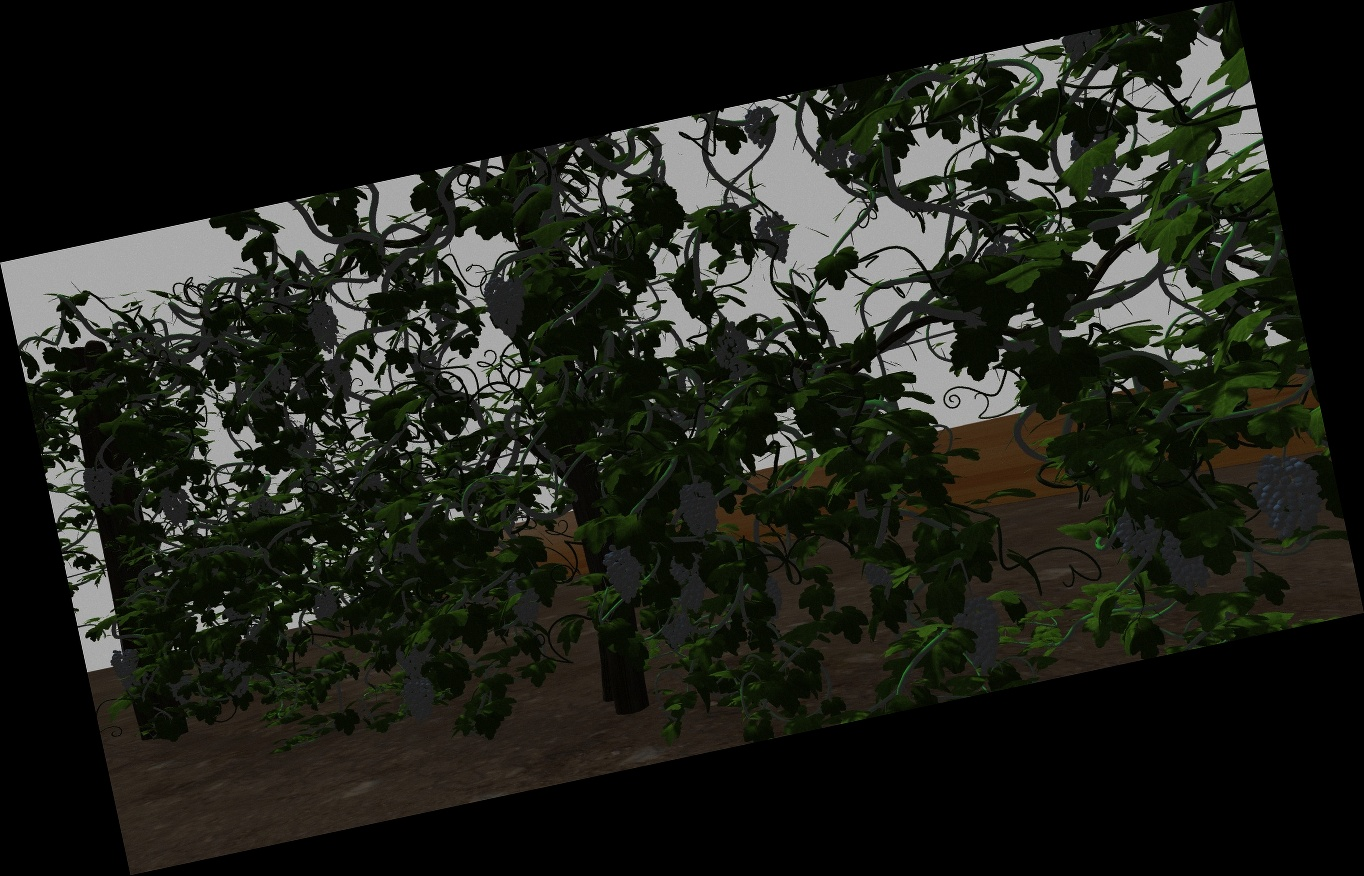grape: (1259, 454, 1325, 538), (958, 595, 1004, 675), (1165, 528, 1209, 596), (678, 477, 721, 542), (604, 543, 646, 606), (486, 276, 528, 337), (1116, 505, 1159, 562), (672, 553, 708, 613), (712, 323, 750, 377), (508, 571, 540, 629), (758, 213, 792, 265), (308, 298, 340, 353), (403, 678, 436, 723), (83, 465, 114, 509), (745, 107, 778, 147), (160, 486, 191, 528), (324, 357, 353, 401), (111, 647, 141, 687), (395, 640, 426, 677), (865, 561, 895, 599), (762, 575, 784, 622), (660, 617, 694, 647), (266, 362, 292, 394), (311, 592, 340, 620), (221, 657, 250, 679)
